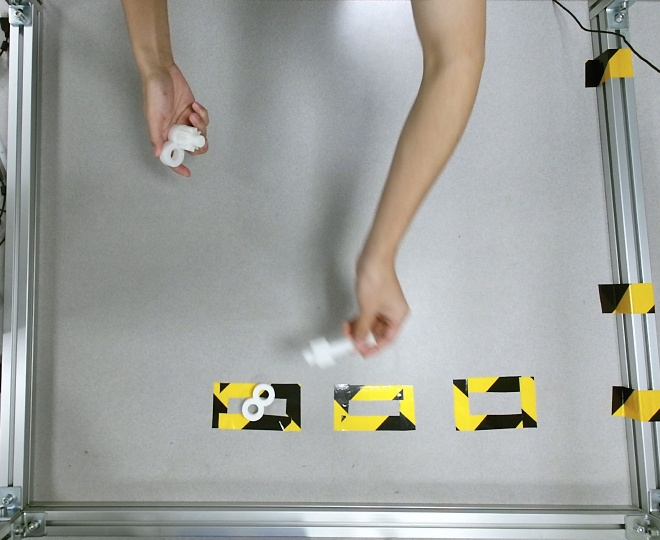stage_2: (159, 125, 205, 166)
